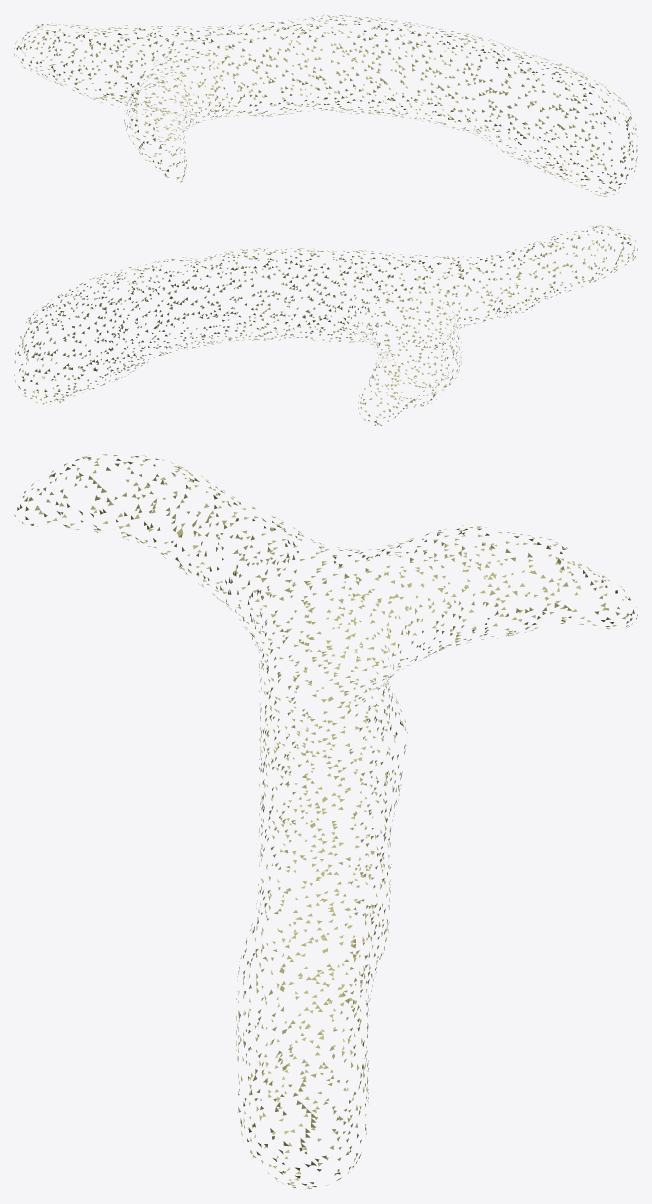
The model's file is morph_009.glb.
3 renders of one model, top to bottom at view 1: azimuth 30°, elevation 25°; view 2: azimuth 150°, elevation 25°; view 3: azimuth 270°, elevation 25°, orthographic. The views are drawn at different scales.
Size of the model in its own units: 124 by 55.4 by 83.86.
